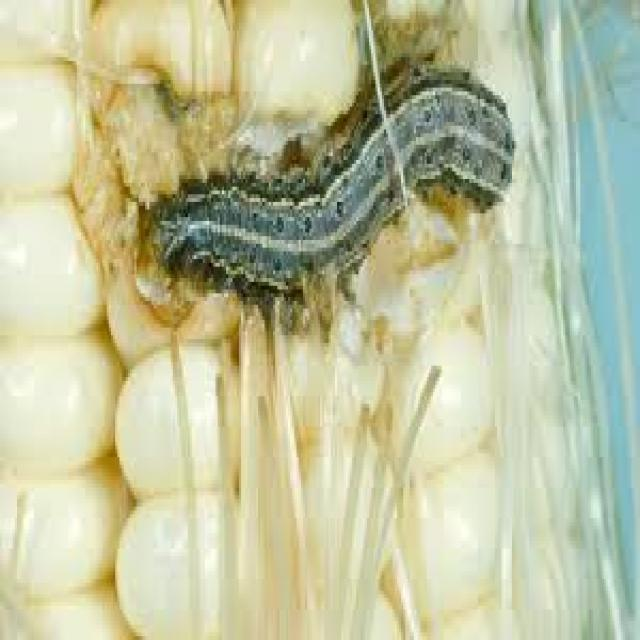Army Worm: (151, 59, 519, 317)
